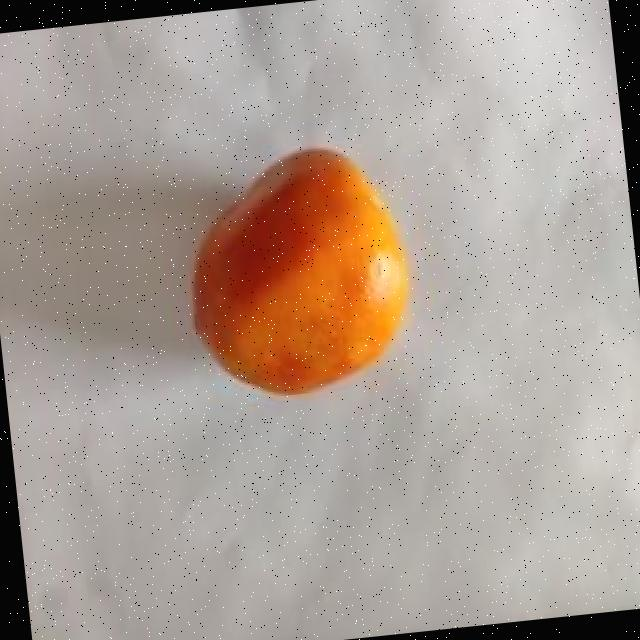Ripe: (176, 130, 430, 411)
